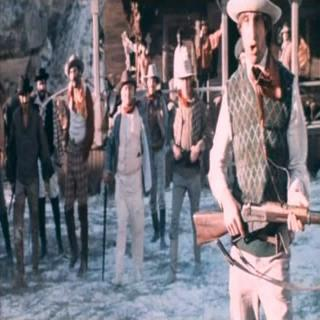gun: (190, 183, 317, 265)
